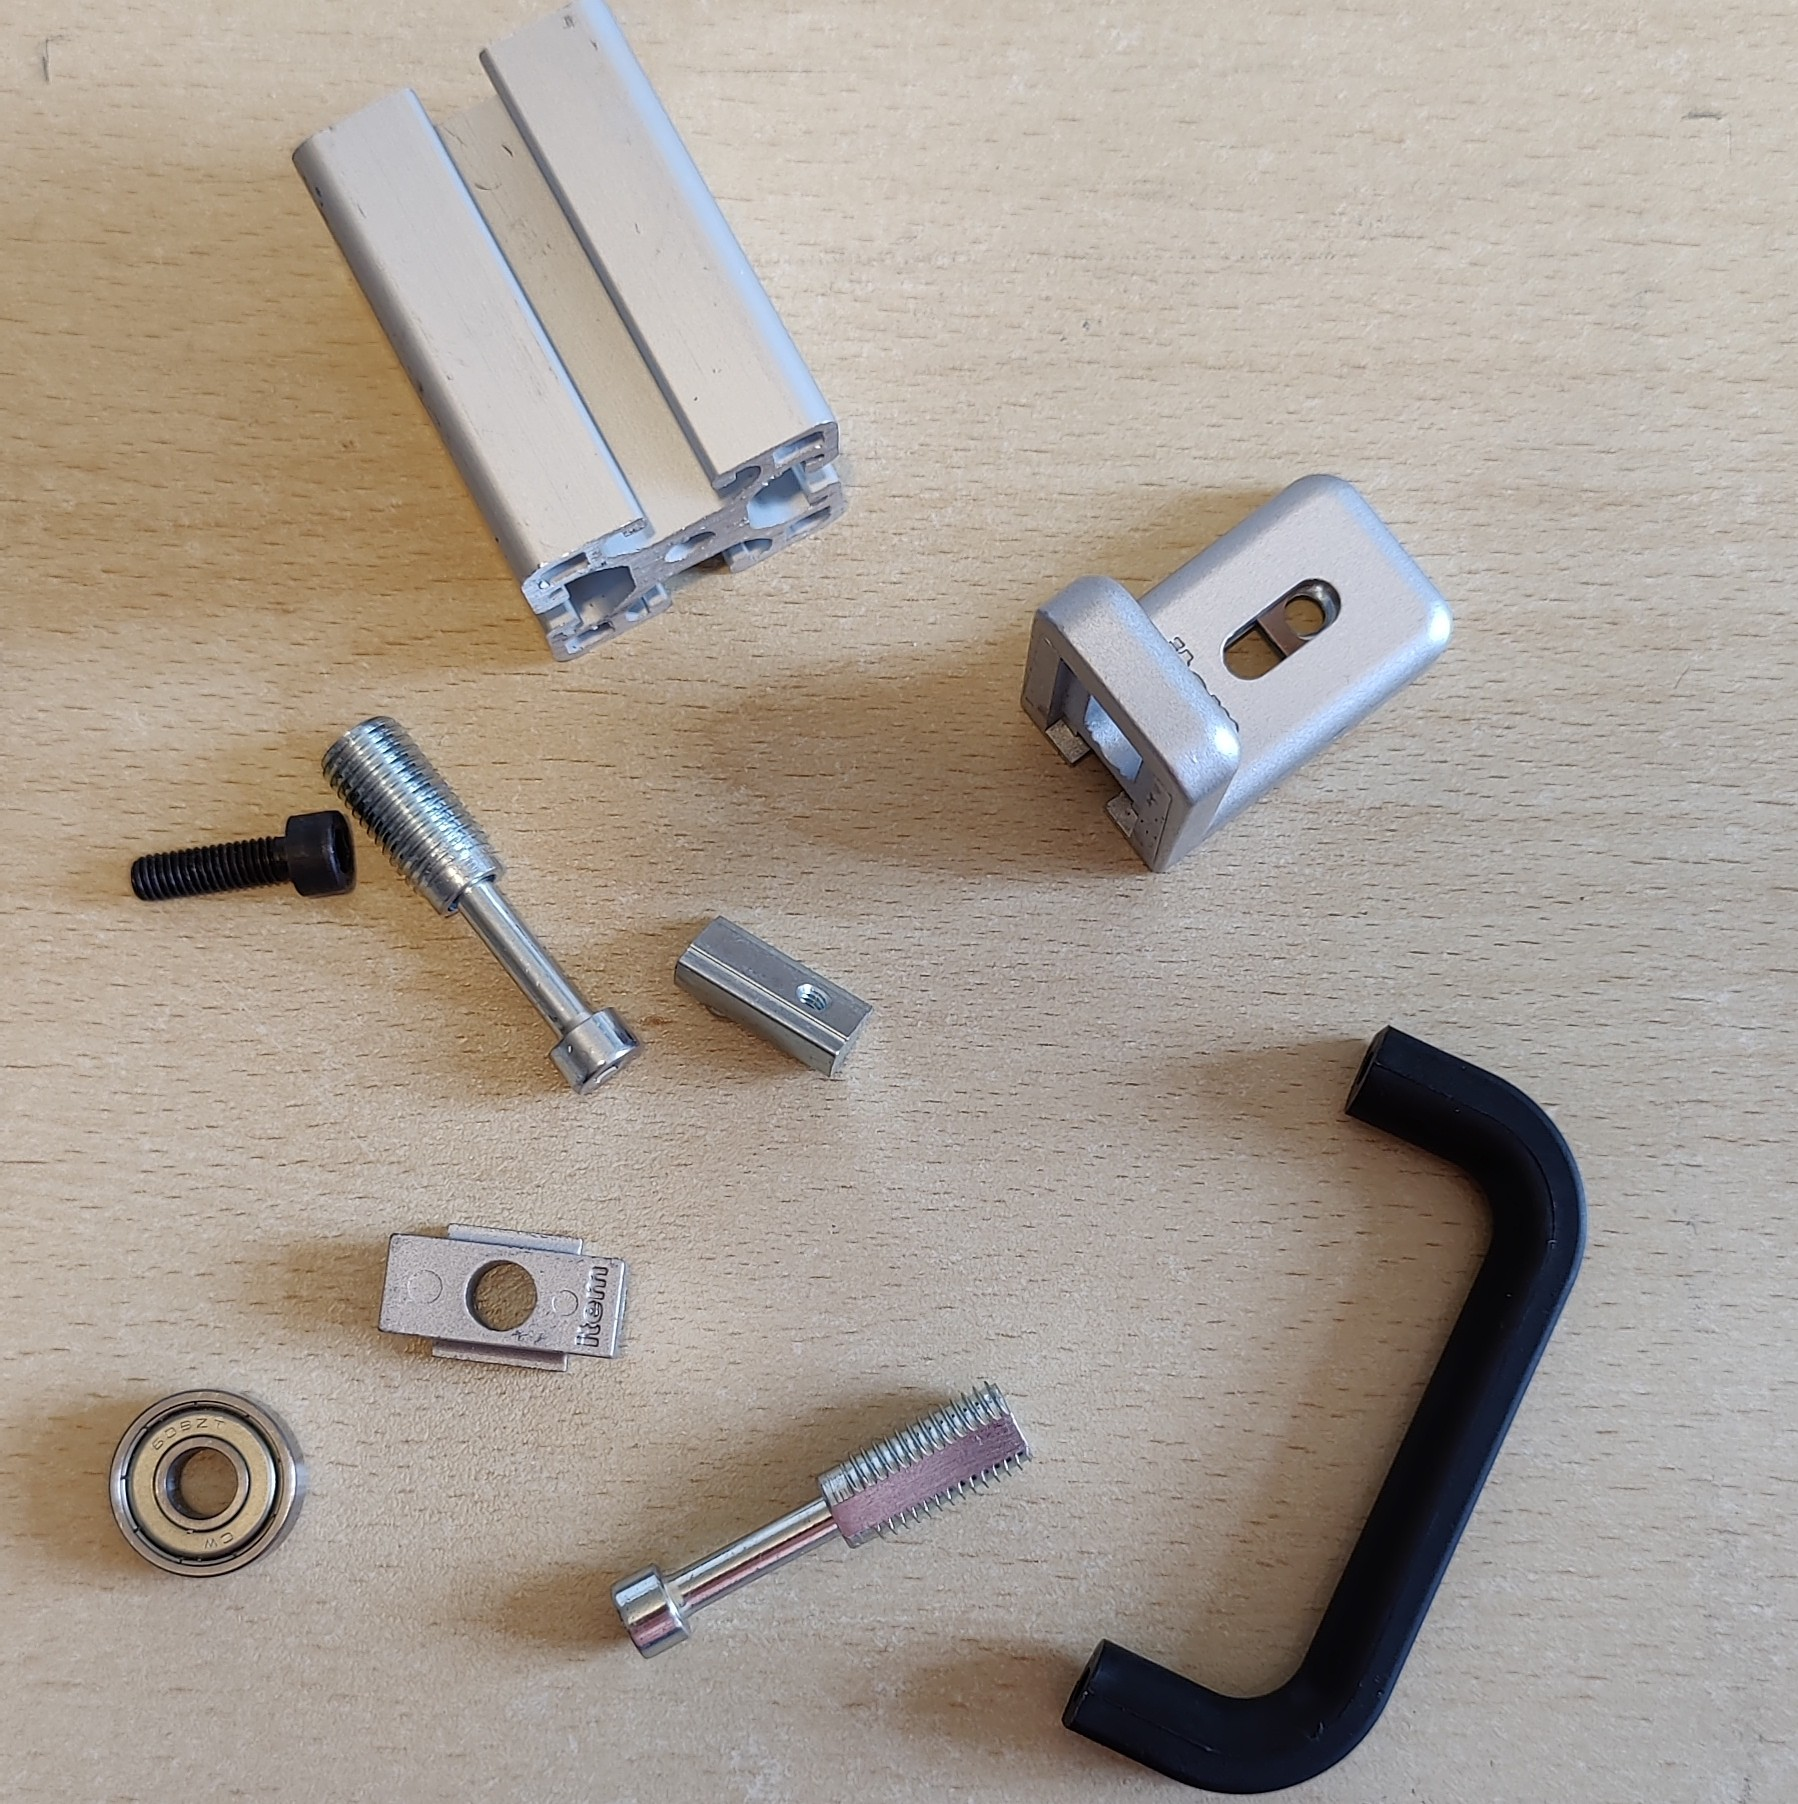Aluminium Extension: (290, 2, 848, 667)
Ball Bearing: (104, 1384, 311, 1578)
Multiwinkel: (1018, 471, 1456, 877)
Pull Handle: (1059, 1024, 1592, 1797)
Shoulder Socket Head Cap Screw: (318, 711, 647, 1100), (608, 1374, 1036, 1661)
Socket Head Cap Screw: (127, 807, 361, 907)
T Nut Square: (374, 1216, 636, 1378)
T Spring Nut: (668, 914, 878, 1081)
